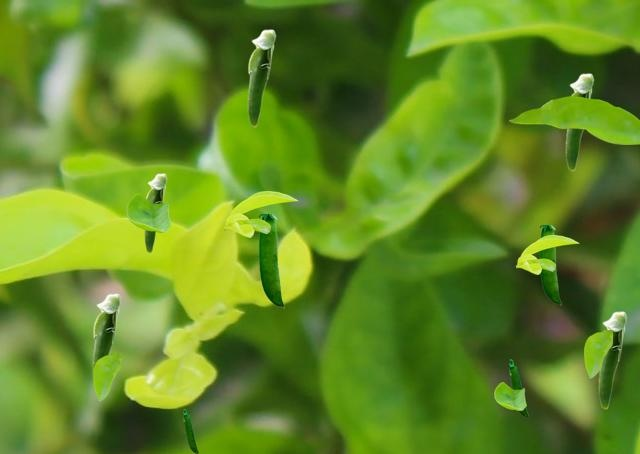pea: (247, 29, 275, 126), (565, 73, 593, 170), (598, 311, 626, 408), (92, 293, 120, 378), (259, 214, 283, 307), (144, 173, 166, 252), (540, 225, 560, 304), (509, 359, 527, 416), (183, 409, 197, 452)
